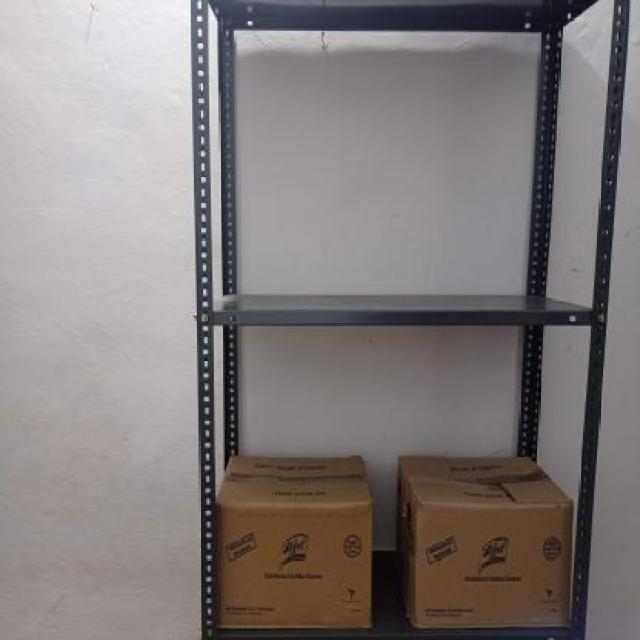box: (415, 503, 573, 629), (217, 505, 371, 627)
